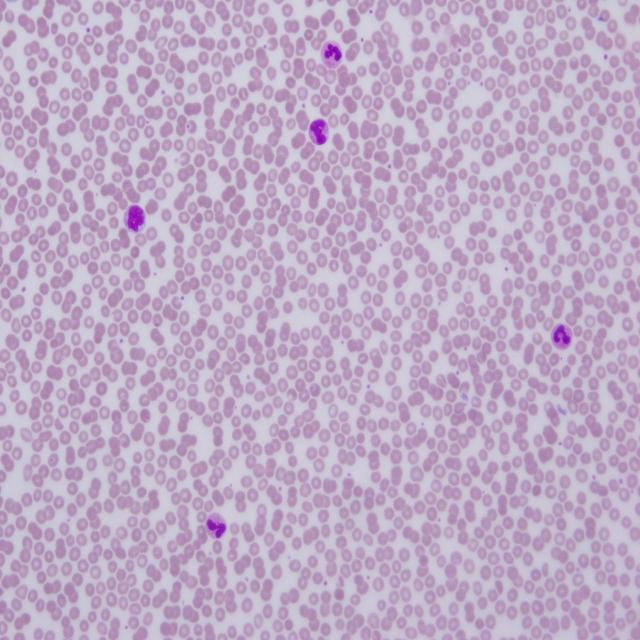cell: (321, 41, 342, 69), (551, 324, 572, 349), (206, 513, 226, 539)
